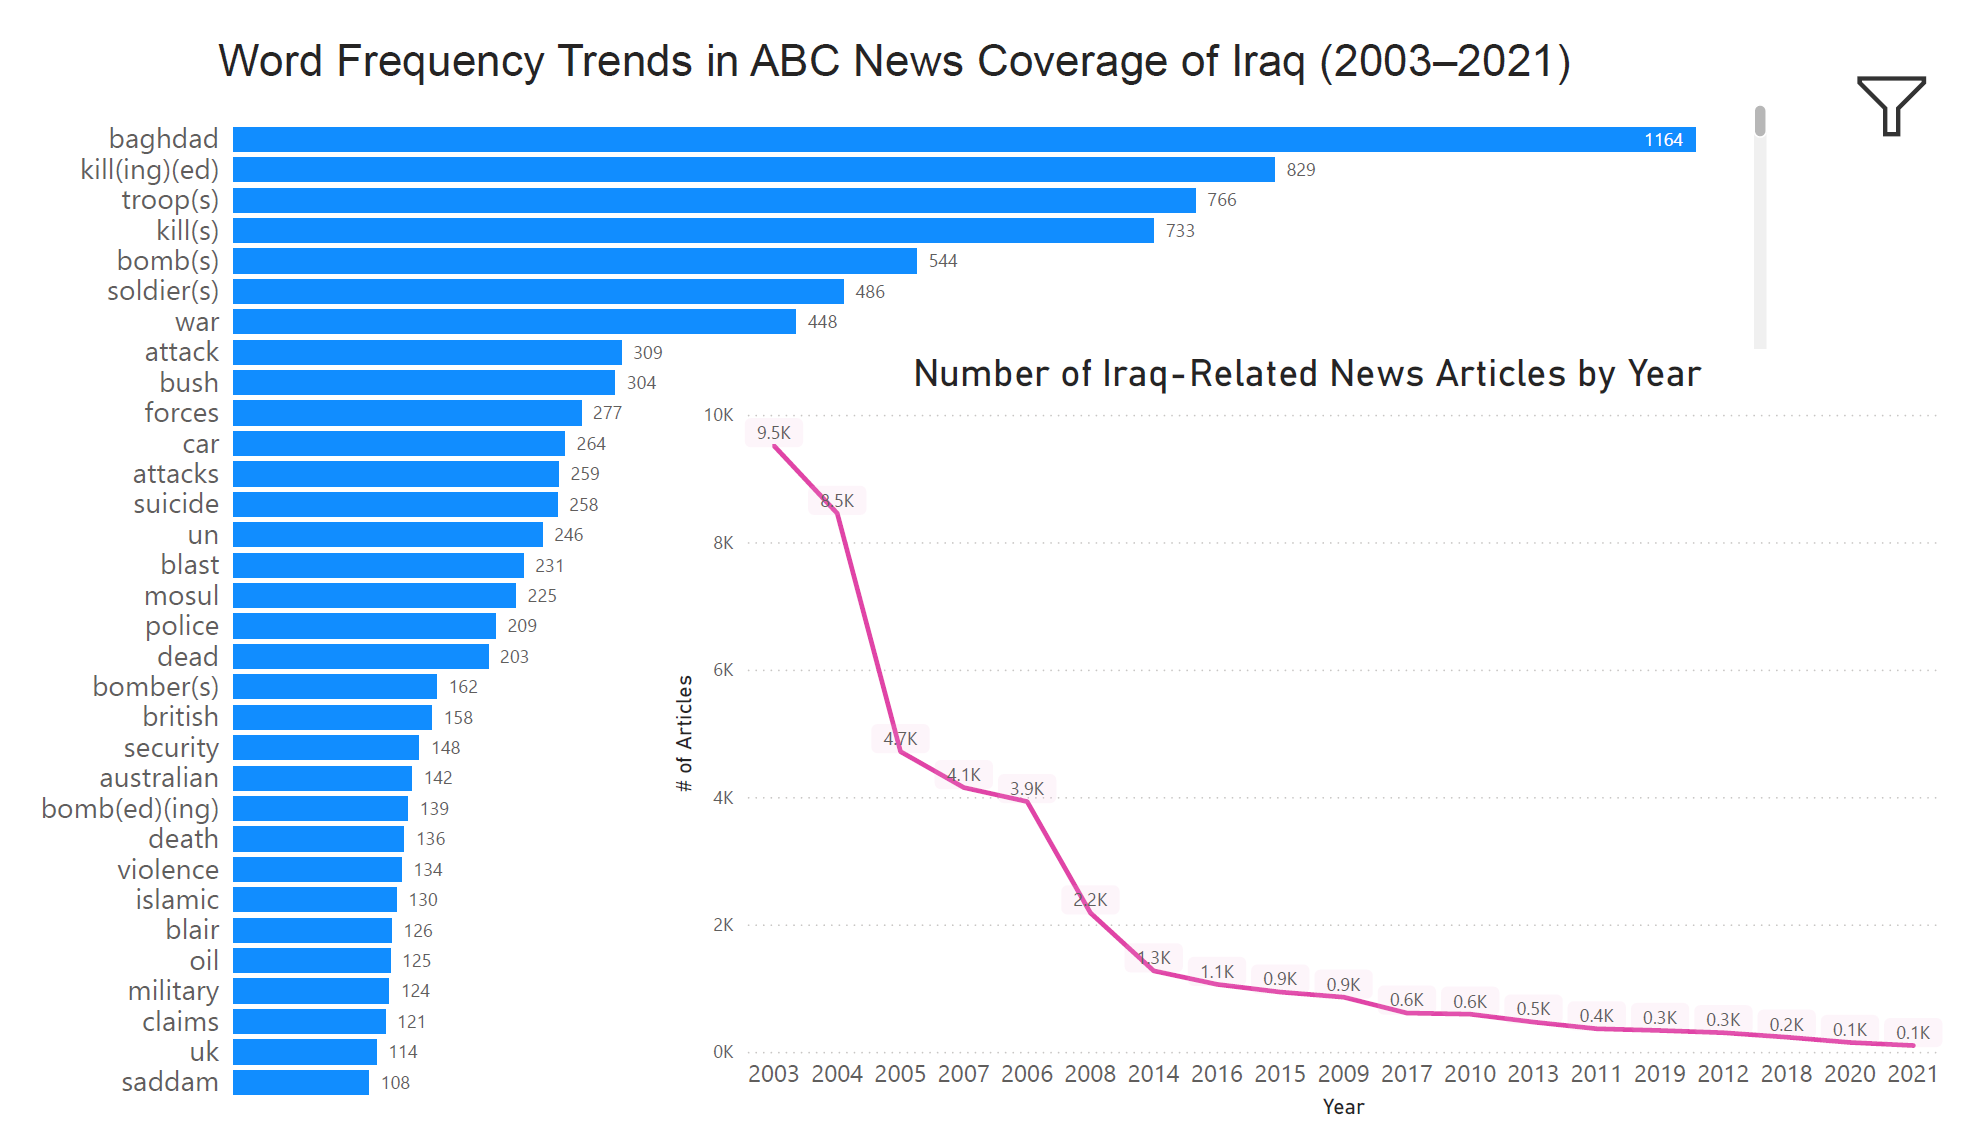

What the dashboard file says about the page in this screenshot:
{"tool":"powerbi","page":{"name":"Page 1","canvas":[1280,720],"ordinal":0},"visuals":[{"type":"clusteredBarChart","title":"Word Frequency Trends in ABC News Coverage of Iraq (2003–2021)","fields":{"Y":["Iraq_News.frequency"],"Category":["Iraq_News.normalized_word"]},"box":[0,0,1162.9,720],"z":0},{"type":"slicer","fields":{"Values":["Iraq_News.year"]},"box":[1201.8,0,77.8,98.2],"z":1000},{"type":"lineChart","title":"Number of Iraq-Related News Articles by Year","fields":{"Y":["Iraq_News.frequency"],"Category":["Iraq_News.year"]},"box":[428.5,208.3,851.1,512.3],"z":2000}]}

Visuals, with their boxes in screenshot pixels (x1, y1, x2, y2), scaled from the page's 1280x720 canvas onto the 1981x1144 screenshot:
"Word Frequency Trends in ABC News Coverage of Iraq (2003–2021)" clusteredBarChart: [0, 0, 1800, 1143]
slicer - Iraq_News.year: [1860, 0, 1980, 156]
"Number of Iraq-Related News Articles by Year" lineChart: [663, 331, 1980, 1143]
